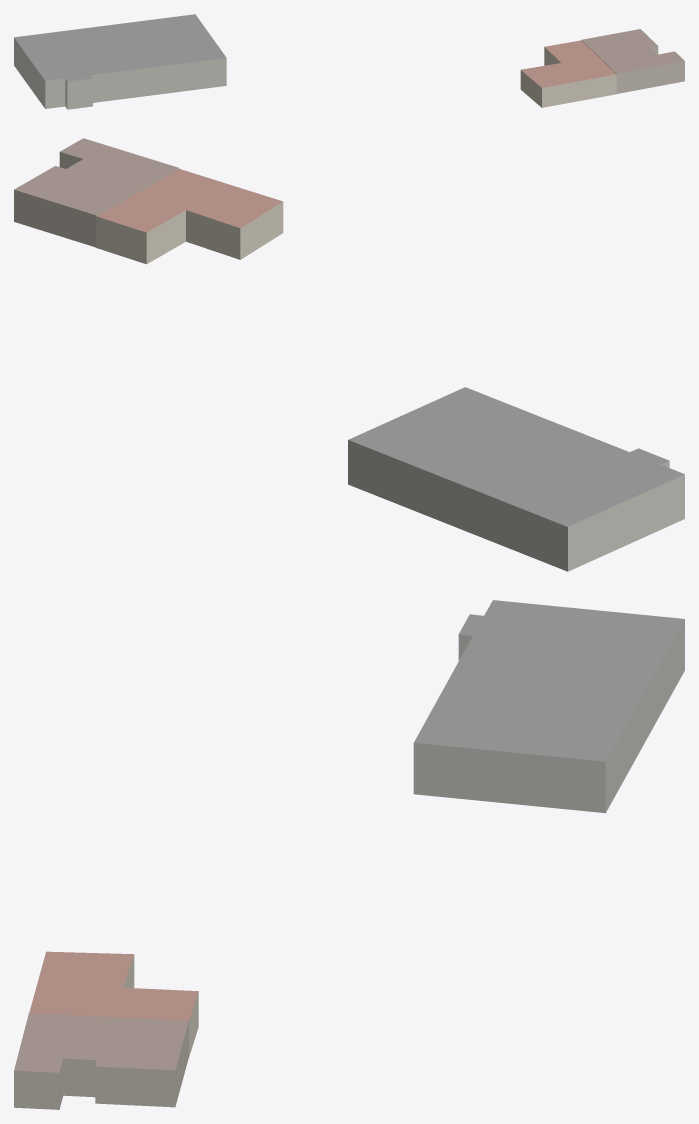
3 views of the same model, one above another, from view 1: azimuth 30°, elevation 25°; view 2: azimuth 150°, elevation 25°; view 3: azimuth 270°, elevation 25° (orthographic). The views are drawn at different scales.
Parts seen in each view (by area): view 1: tuile; view 2: tuile; view 3: tuile.
Part boxes in pixels (x1,y1,x2,y2): tuile: [14, 14, 684, 109]; tuile: [14, 138, 684, 571]; tuile: [14, 600, 684, 1109].
Size of the model in its own units: 145 by 7.88 by 89.8.
